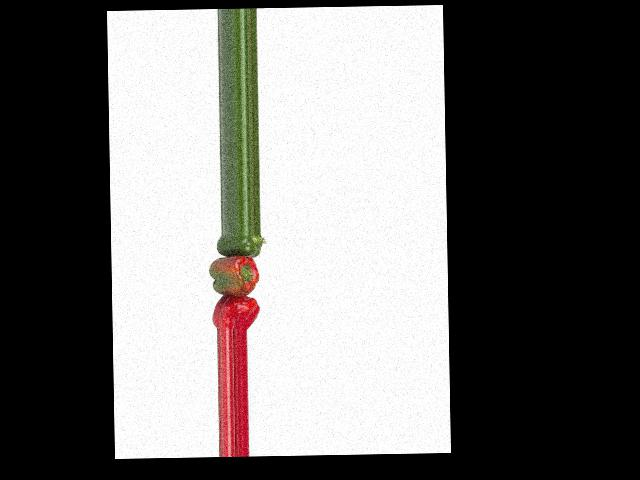bell_pepper: (209, 293, 264, 330)
